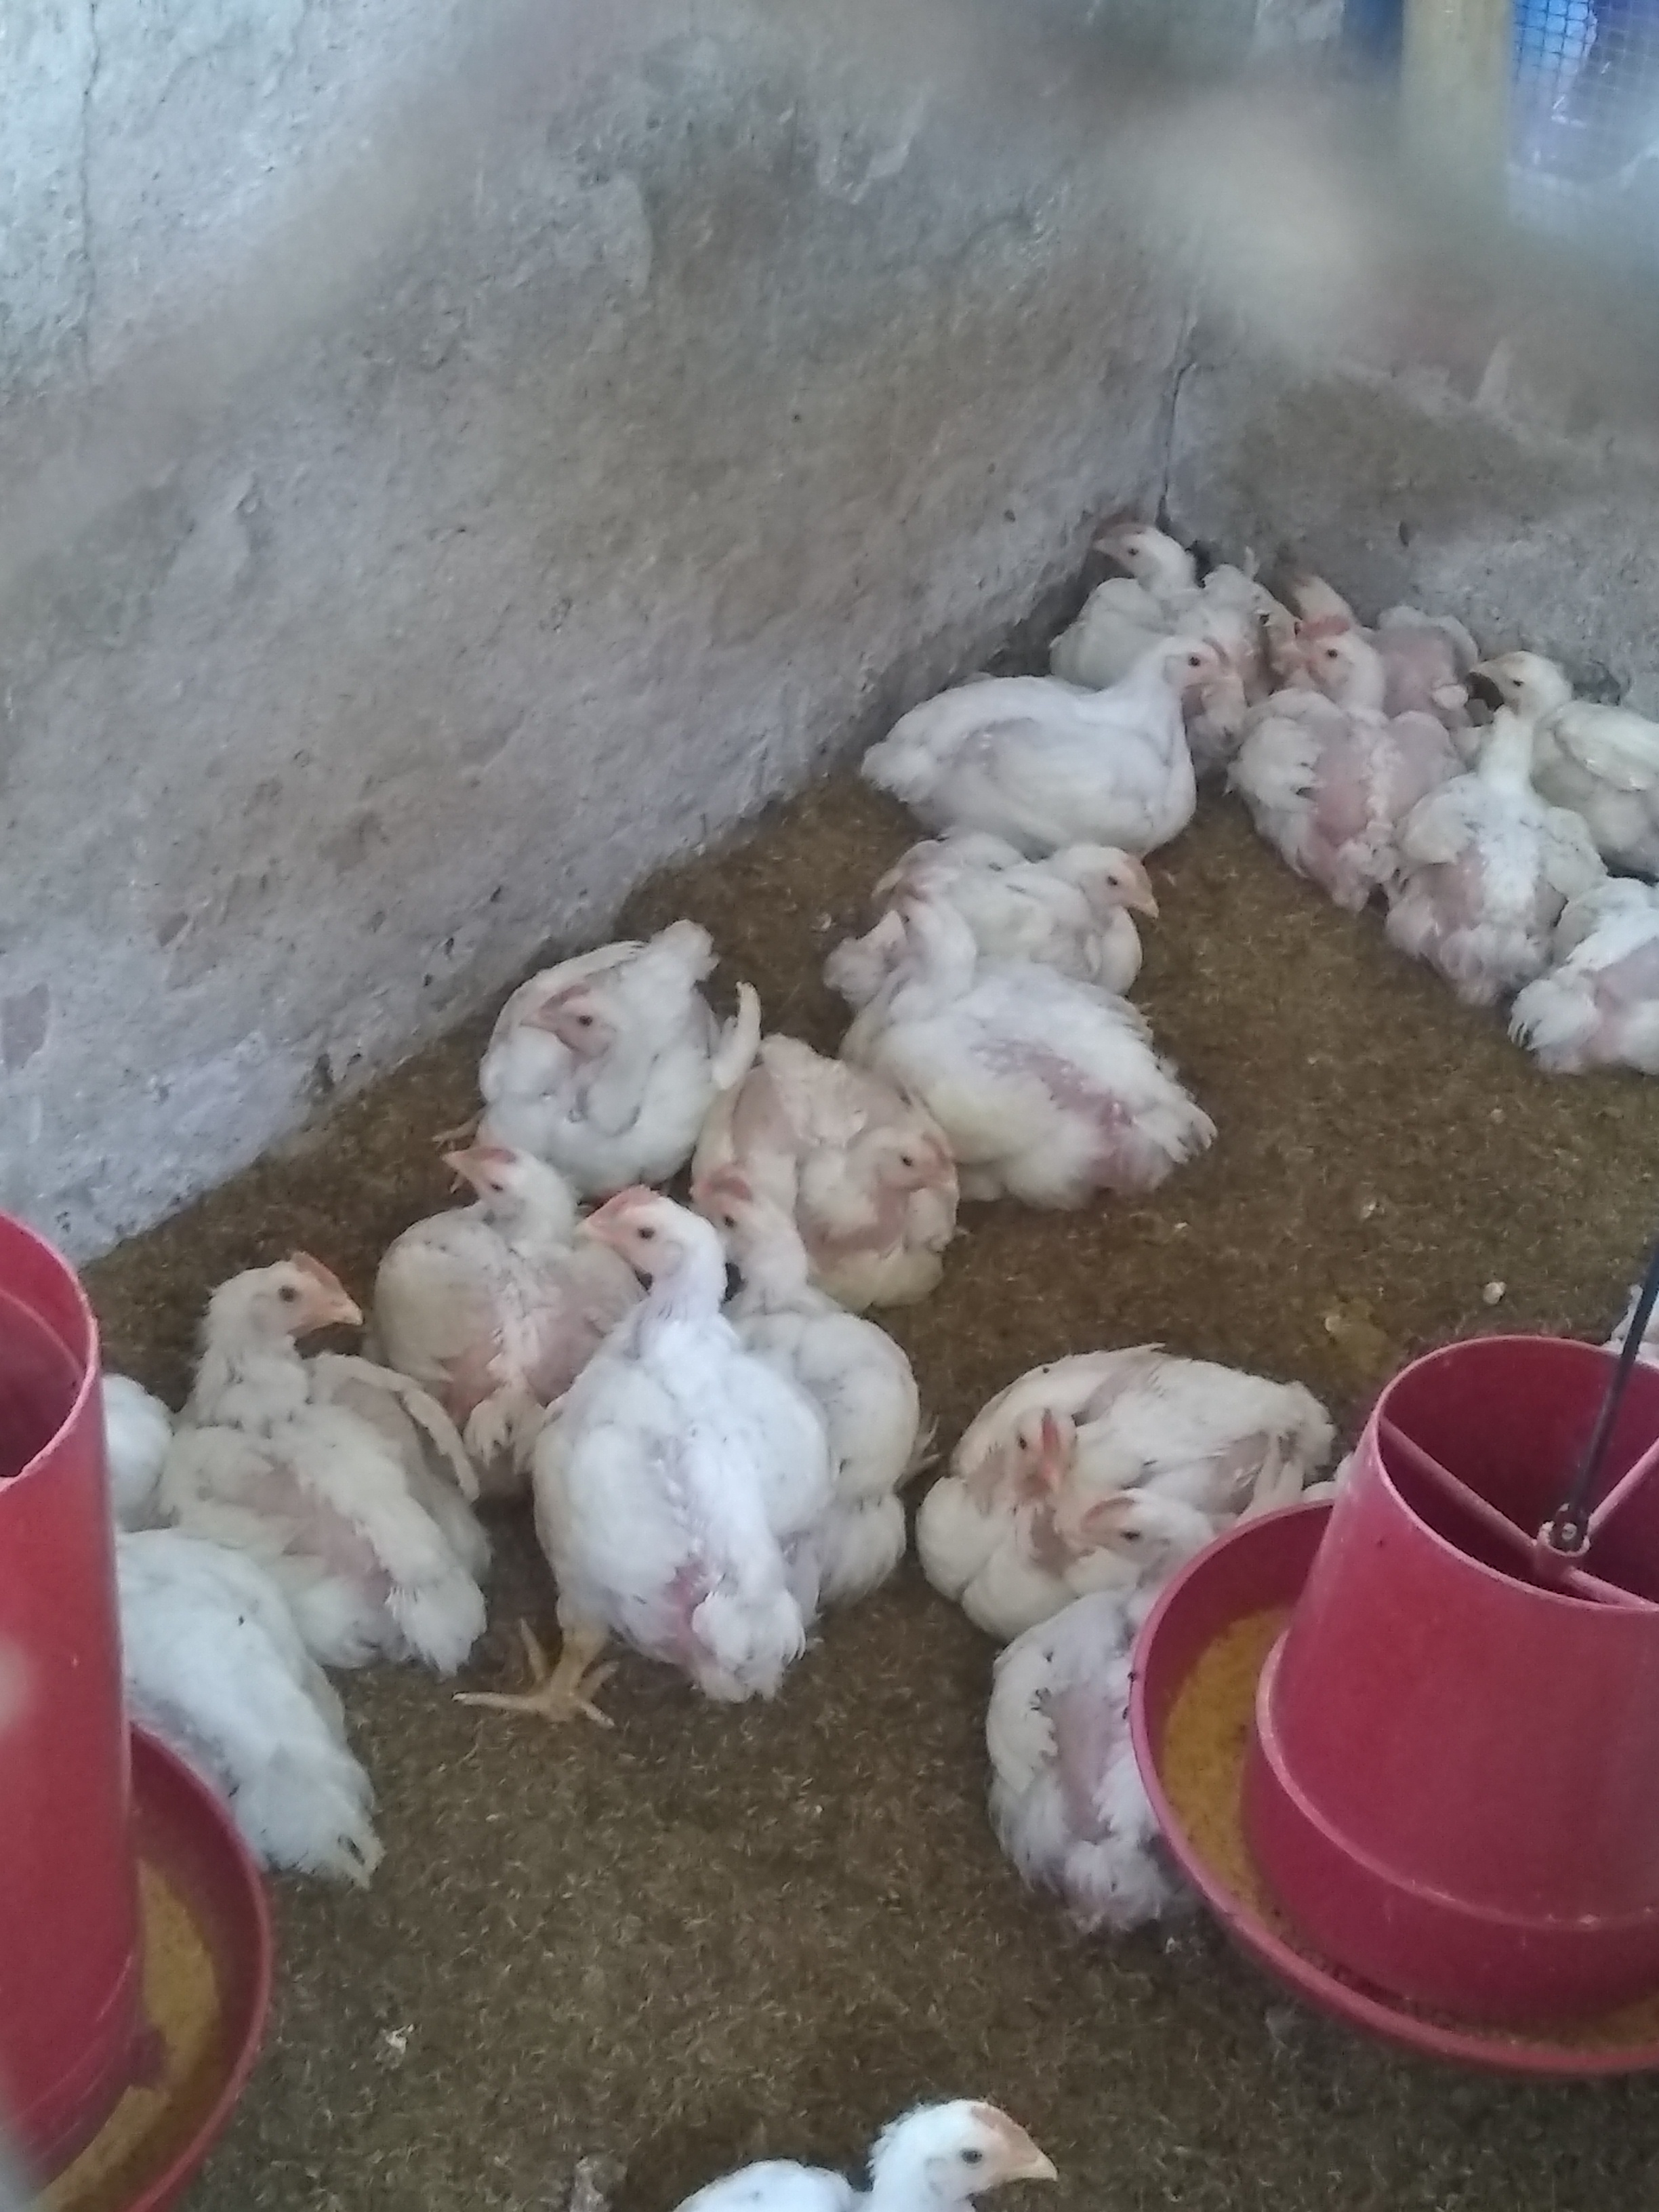Pollos: (552, 1193, 854, 1717), (824, 843, 1241, 1217), (174, 1252, 490, 1649), (1018, 1475, 1290, 1883), (582, 2041, 1164, 2212), (713, 1028, 955, 1334), (873, 636, 1223, 843), (476, 941, 751, 1188), (922, 1359, 1330, 1524), (1473, 624, 1659, 810), (971, 829, 1194, 970), (1251, 672, 1387, 878), (422, 1111, 552, 1305), (1077, 500, 1183, 674), (1302, 625, 1412, 752), (1258, 536, 1358, 643)
